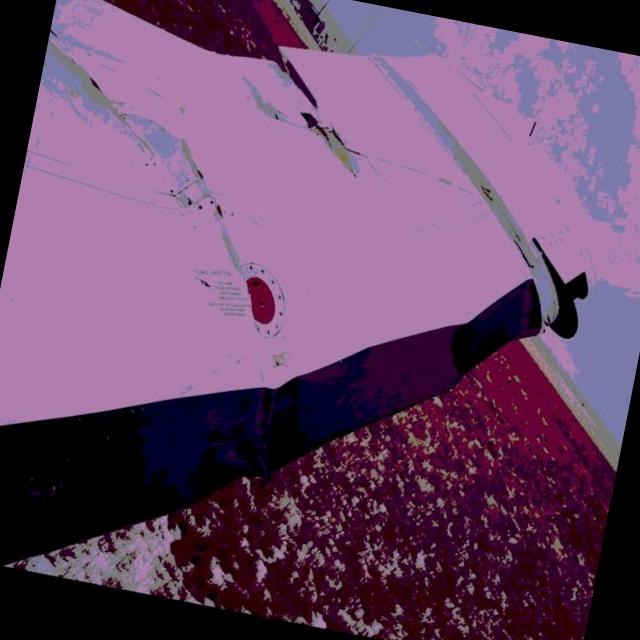crack: (231, 40, 380, 184), (152, 132, 270, 280), (29, 41, 173, 162)
